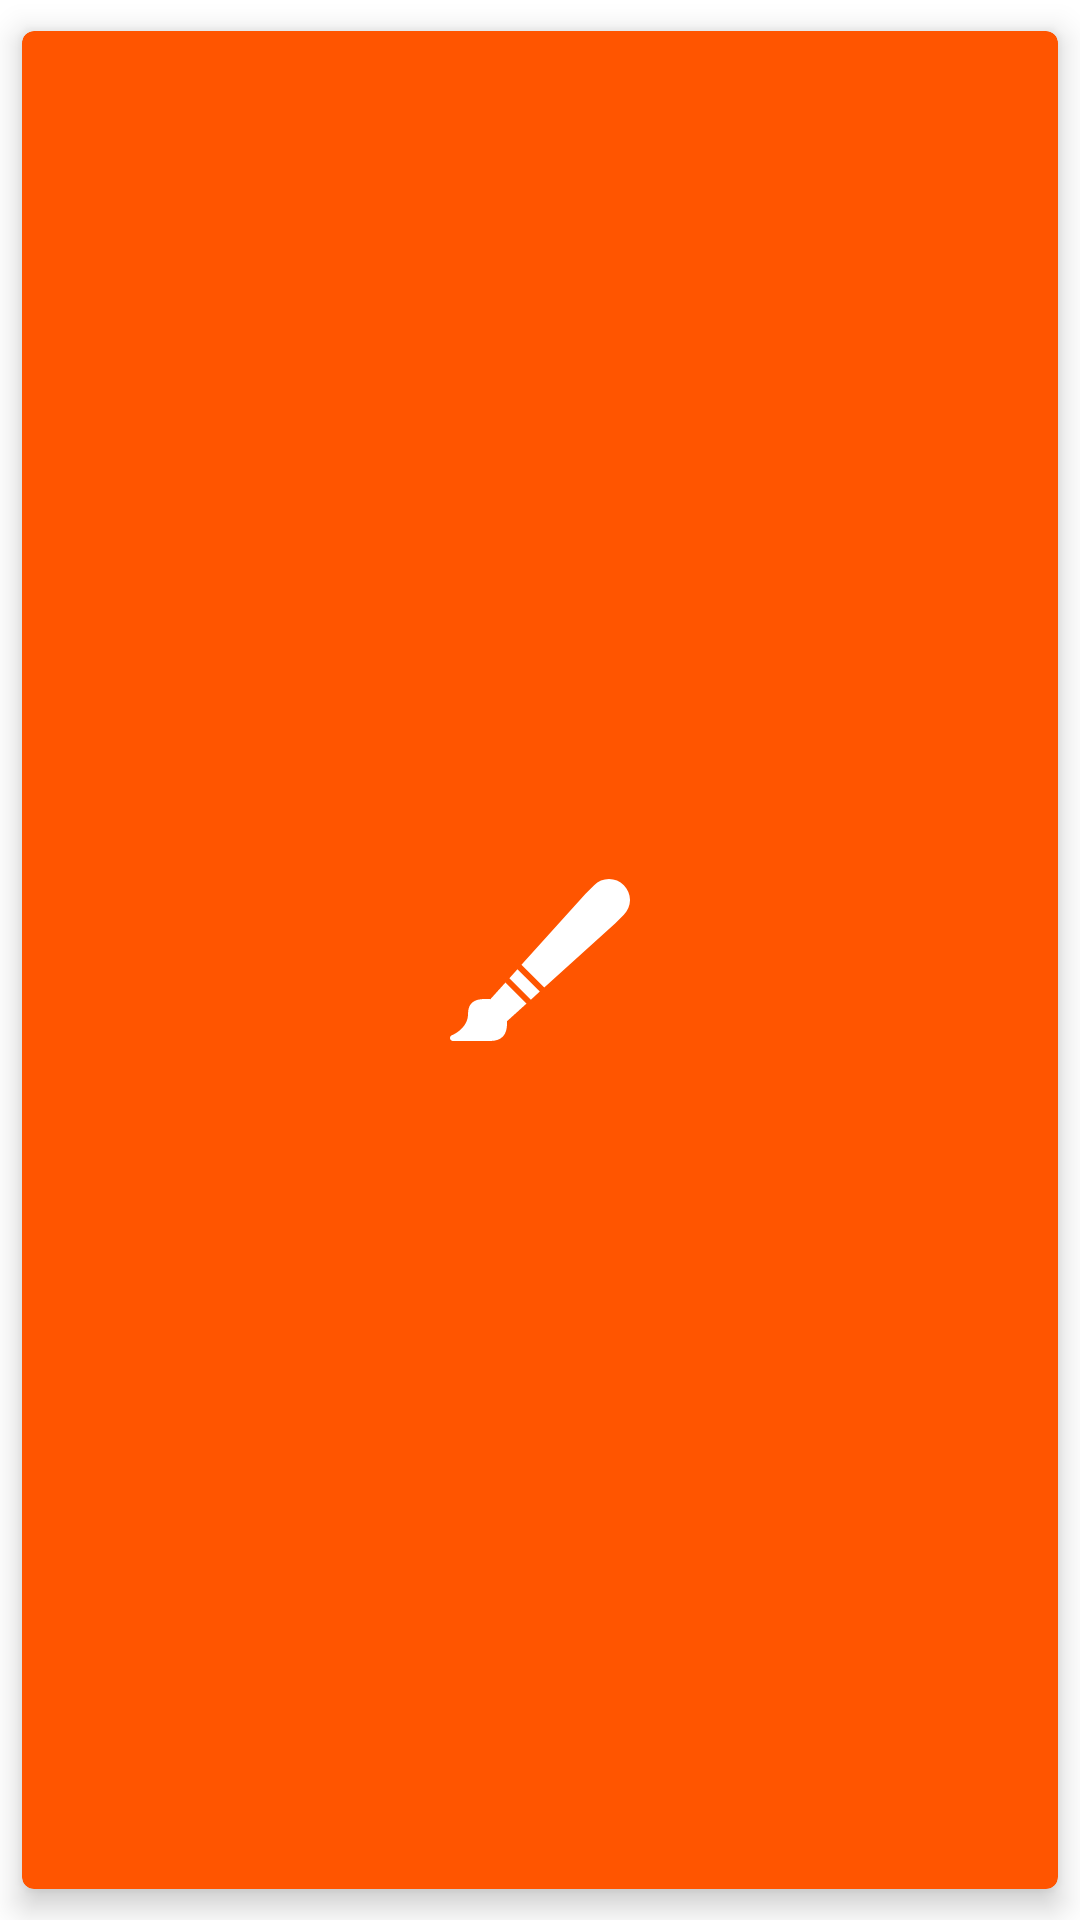

Screen size 1080px×1920px. Icon name, then its center in pixels as (x,y):
brush: (540,960)
